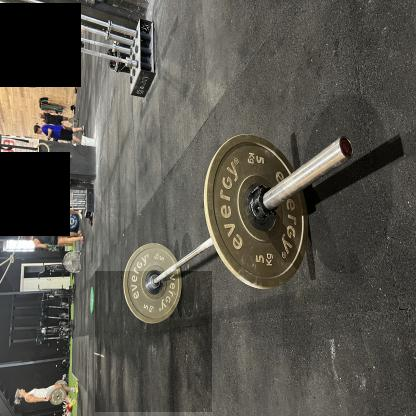barbell: (96, 272, 213, 413), (70, 165, 131, 244)
